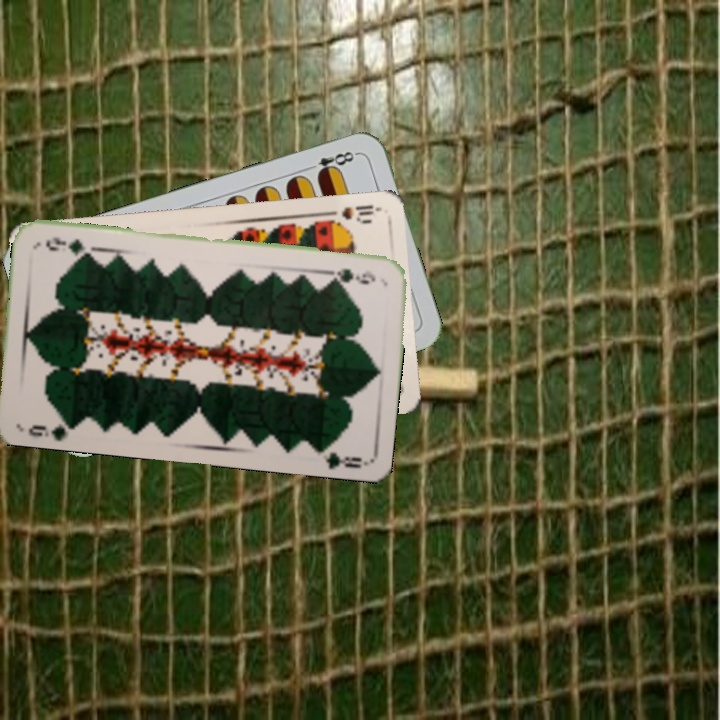E8: (303, 147, 361, 179)
G9: (24, 414, 78, 442), (325, 264, 378, 286)
S10: (321, 200, 380, 225)
